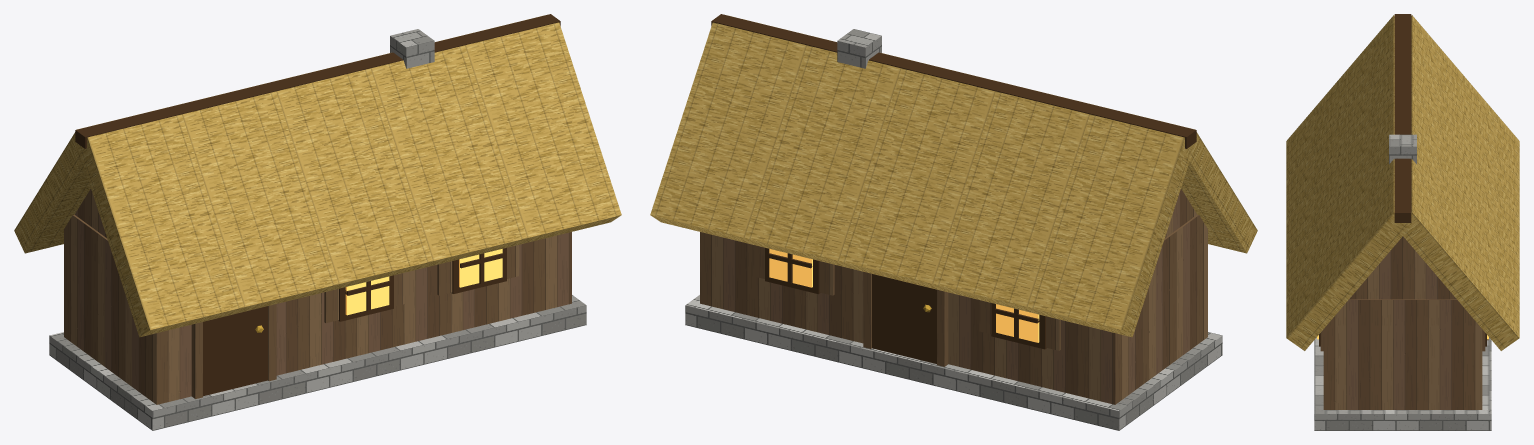
The model's file is longhouse.glb.
The picture shows the model from 3 angles, left to right: view 1: azimuth 30°, elevation 25°; view 2: azimuth 150°, elevation 25°; view 3: azimuth 270°, elevation 25°; orthographic projection. The views are drawn at different scales.
Visible parts, largest first — view 1: longhouse; view 2: longhouse; view 3: longhouse.
Boxes of the visible parts, left/top/right/bottom form: longhouse: left=14, top=14, right=621, bottom=430; longhouse: left=650, top=14, right=1257, bottom=430; longhouse: left=1286, top=14, right=1519, bottom=430.
Size of the model in its own units: 5.04 by 2.83 by 2.5.
Materials: 6 (3 with a texture image).
